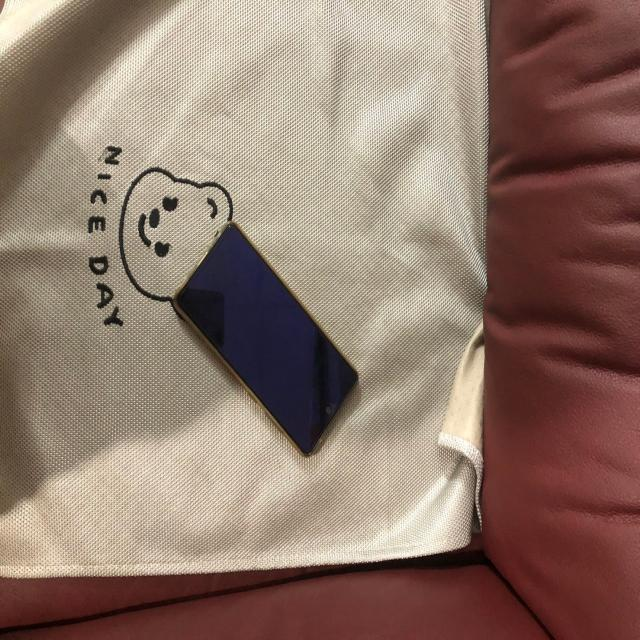phone: (155, 206, 377, 481)
